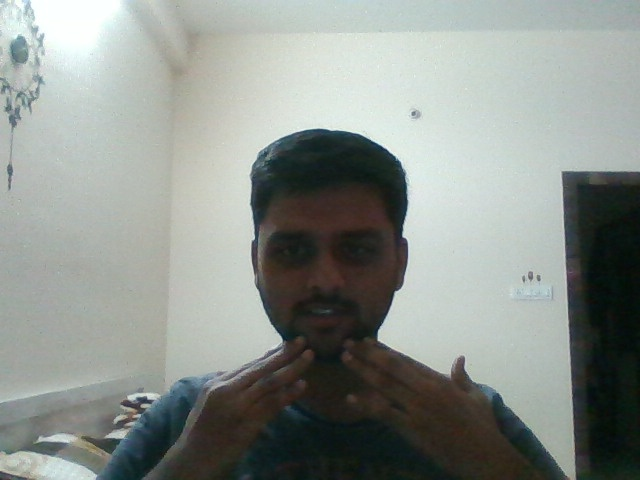thanks: (153, 311, 564, 469)
